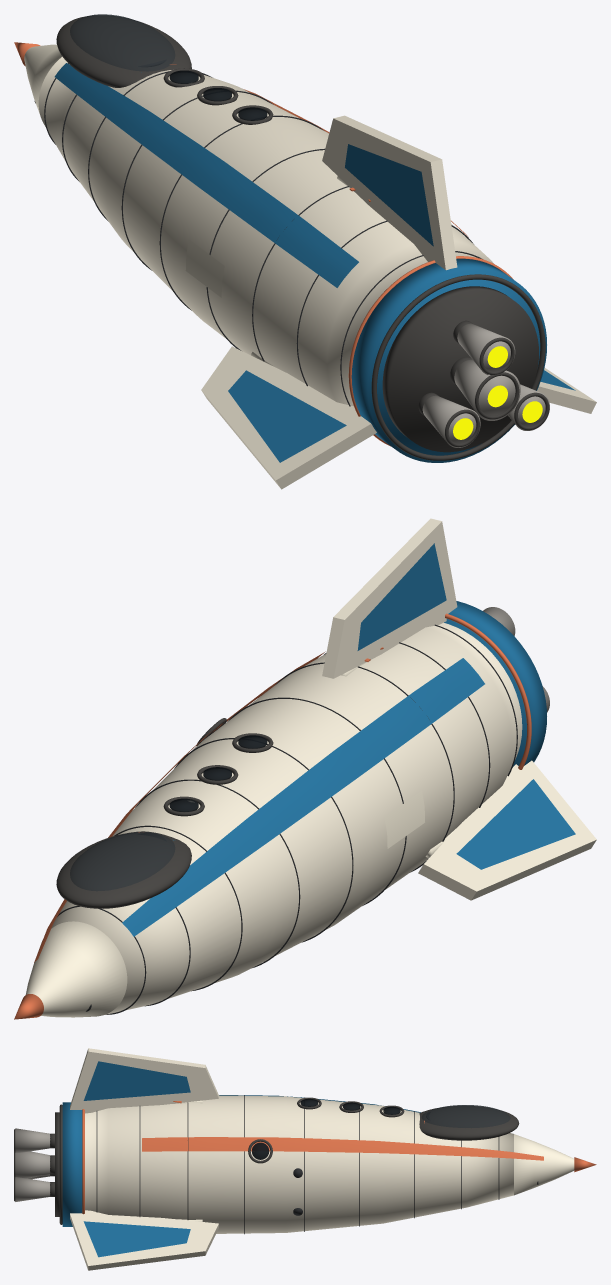
Rendered from Ship_LunarCourier_7.glb.
3 renders of one model, top to bottom at view 1: azimuth 30°, elevation 25°; view 2: azimuth 150°, elevation 25°; view 3: azimuth 270°, elevation 25°, orthographic. The views are drawn at different scales.
Visible parts, largest first — view 1: Fuselage_TaperedCreamBody, EngineDeck_AftDarkMountPlate, PaintStripe_Cobalt_LeftSweptSpear, AftCollar_CobaltEngineBand, TailFin_LeftLower_CreamAerofoil, TailFin_Dorsal_CreamAerofoil, CanopyFrame_DorsalDarkInset, TailFinPanel_LeftLower_CobaltOuterSideB, CanopyGlass_DorsalSmokedDome, TailFinPanel_Dorsal_CobaltOuterSideA, AftTrimRing_DarkRear, EngineBell_Center_BurnishedNozzle (+8 smaller); view 2: Fuselage_TaperedCreamBody, PaintStripe_Cobalt_LeftSweptSpear, TailFin_LeftLower_CreamAerofoil, CanopyFrame_DorsalDarkInset, NoseCone_CreamNeedleSection, TailFin_Dorsal_CreamAerofoil, TailFinPanel_LeftLower_CobaltOuterSideB, CanopyGlass_DorsalSmokedDome, AftCollar_CobaltEngineBand, TailFinPanel_Dorsal_CobaltOuterSideA, PaintPanel_WarmIvory_ServiceHatchLeft, AftTrimRing_RustOrangeForward (+1 smaller); view 3: Fuselage_TaperedCreamBody, PaintStripe_RustOrange_RightLongSpear, TailFin_Dorsal_CreamAerofoil, TailFin_RightLower_CreamAerofoil, CanopyFrame_DorsalDarkInset, TailFinPanel_Dorsal_CobaltOuterSideB, TailFinPanel_RightLower_CobaltOuterSideA, AftCollar_CobaltEngineBand, NoseCone_CreamNeedleSection, CanopyGlass_DorsalSmokedDome, EngineBell_Center_BurnishedNozzle, EngineBell_Upper_BurnishedNozzle (+4 smaller).
Boxes of the visible parts, <box> form: Fuselage_TaperedCreamBody: <box>38,56,493,406</box>; EngineDeck_AftDarkMountPlate: <box>382,286,538,452</box>; PaintStripe_Cobalt_LeftSweptSpear: <box>54,63,358,287</box>; AftCollar_CobaltEngineBand: <box>351,258,546,462</box>; TailFin_LeftLower_CreamAerofoil: <box>201,346,376,489</box>; TailFin_Dorsal_CreamAerofoil: <box>322,115,457,270</box>; CanopyFrame_DorsalDarkInset: <box>56,15,191,87</box>; TailFinPanel_LeftLower_CobaltOuterSideB: <box>228,370,346,462</box>; CanopyGlass_DorsalSmokedDome: <box>70,14,175,71</box>; TailFinPanel_Dorsal_CobaltOuterSideA: <box>345,144,433,246</box>; AftTrimRing_DarkRear: <box>371,274,545,460</box>; EngineBell_Center_BurnishedNozzle: <box>454,359,520,420</box>; Fuselage_TaperedCreamBody: <box>51,622,522,1014</box>; PaintStripe_Cobalt_LeftSweptSpear: <box>122,658,484,936</box>; TailFin_LeftLower_CreamAerofoil: <box>418,760,596,900</box>; CanopyFrame_DorsalDarkInset: <box>56,831,191,908</box>; NoseCone_CreamNeedleSection: <box>25,921,127,1017</box>; TailFin_Dorsal_CreamAerofoil: <box>322,518,457,678</box>; TailFinPanel_LeftLower_CobaltOuterSideB: <box>456,779,575,869</box>; CanopyGlass_DorsalSmokedDome: <box>70,832,175,891</box>; AftCollar_CobaltEngineBand: <box>444,601,546,767</box>; TailFinPanel_Dorsal_CobaltOuterSideA: <box>357,543,446,650</box>; PaintPanel_WarmIvory_ServiceHatchLeft: <box>384,791,424,848</box>; AftTrimRing_RustOrangeForward: <box>445,613,531,769</box>; Fuselage_TaperedCreamBody: <box>85,1095,513,1233</box>; PaintStripe_RustOrange_RightLongSpear: <box>142,1137,543,1160</box>; TailFin_Dorsal_CreamAerofoil: <box>70,1048,218,1113</box>; TailFin_RightLower_CreamAerofoil: <box>70,1210,218,1270</box>; CanopyFrame_DorsalDarkInset: <box>419,1106,519,1140</box>; TailFinPanel_Dorsal_CobaltOuterSideB: <box>83,1061,190,1100</box>; TailFinPanel_RightLower_CobaltOuterSideA: <box>83,1221,190,1257</box>; AftCollar_CobaltEngineBand: <box>62,1102,82,1226</box>; NoseCone_CreamNeedleSection: <box>514,1134,574,1195</box>; CanopyGlass_DorsalSmokedDome: <box>421,1105,510,1127</box>; EngineBell_Center_BurnishedNozzle: <box>15,1151,50,1178</box>; EngineBell_Upper_BurnishedNozzle: <box>15,1128,50,1153</box>.
Bounding box in the file's own units: 3.33 × 2.94 × 8.7.
